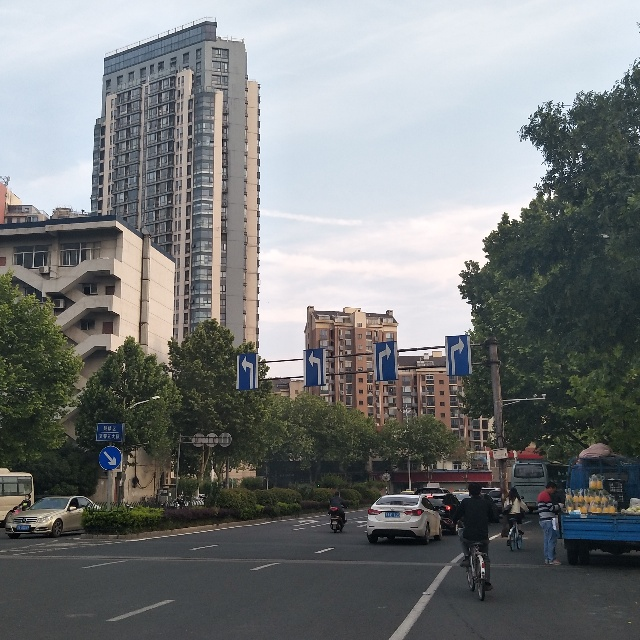left: (234, 352, 263, 392), (303, 348, 330, 390)
right: (443, 333, 473, 379), (373, 339, 400, 384)
